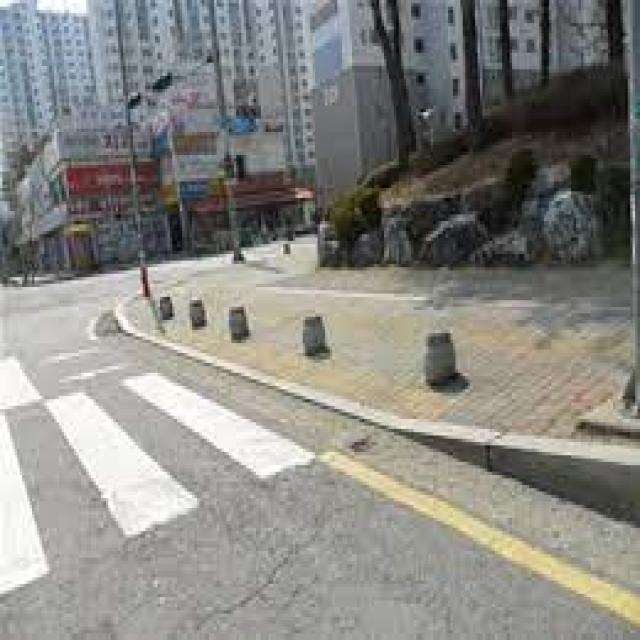bollard: (418, 327, 462, 391), (298, 312, 329, 361), (224, 302, 252, 349), (154, 289, 180, 326), (184, 295, 208, 333), (279, 237, 298, 262)
